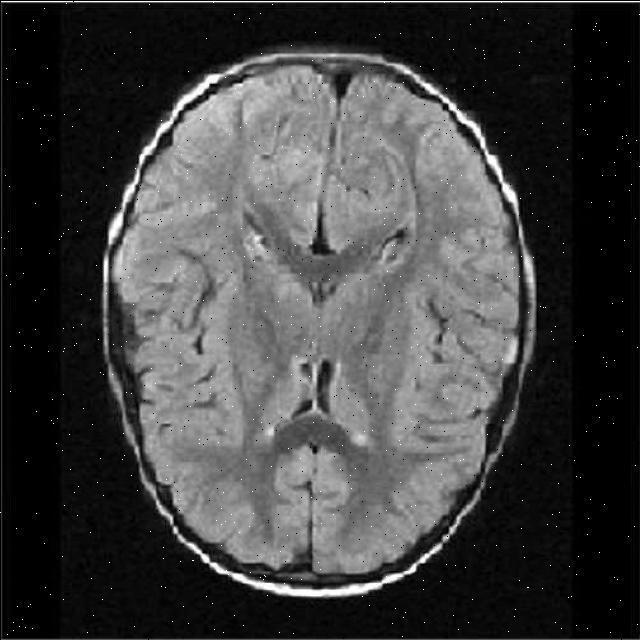No_Tumor: (105, 53, 533, 593)
